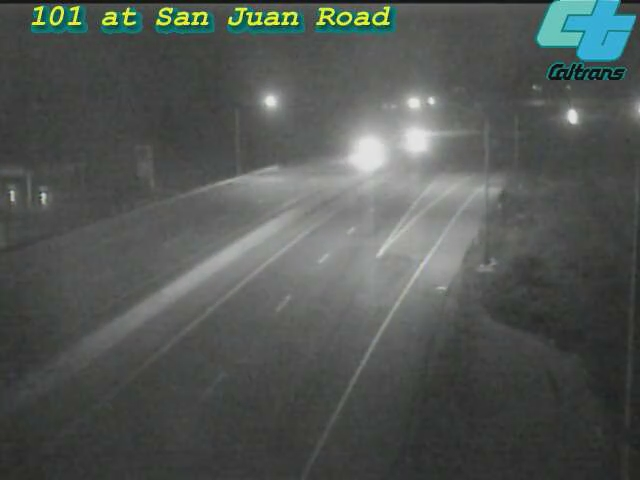vehicle: (337, 126, 387, 176), (386, 116, 436, 166), (548, 91, 598, 141)
